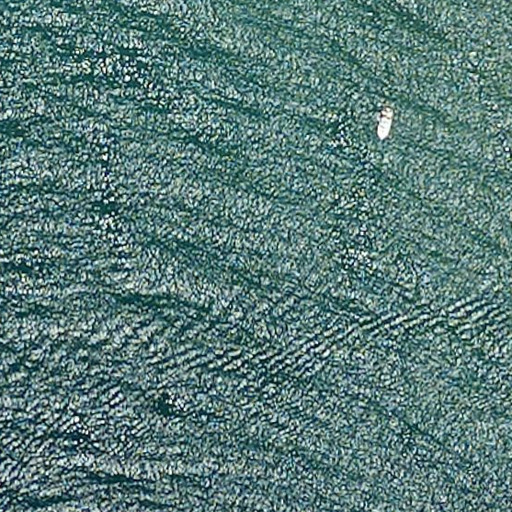ship: (373, 103, 397, 143)
